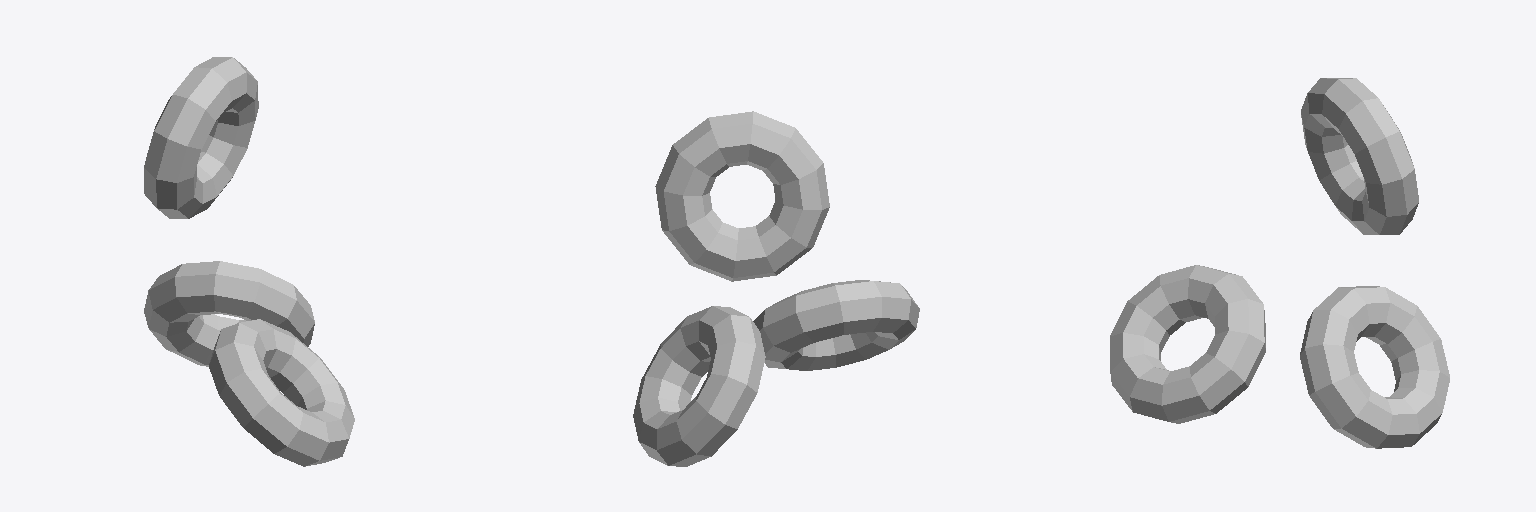
The model's file is Donuts.obj.
The picture shows the model from 3 angles: view 1: azimuth 30°, elevation 25°; view 2: azimuth 150°, elevation 25°; view 3: azimuth 270°, elevation 25°; orthographic projection.
Visible parts, largest first — view 1: Torus.002, Torus.001, Torus; view 2: Torus.001, Torus, Torus.002; view 3: Torus.002, Torus, Torus.001.
Part boxes in pixels (left/top/right/bottom): Torus.002: left=209, top=319, right=354, bottom=466; Torus.001: left=144, top=57, right=258, bottom=218; Torus: left=144, top=261, right=314, bottom=366; Torus.001: left=655, top=111, right=829, bottom=281; Torus: left=633, top=306, right=765, bottom=466; Torus.002: left=753, top=280, right=919, bottom=370; Torus.002: left=1110, top=265, right=1265, bottom=423; Torus: left=1300, top=286, right=1449, bottom=448; Torus.001: left=1301, top=78, right=1418, bottom=234.
Size of the model in its own units: 1.86 by 3.4 by 3.1.